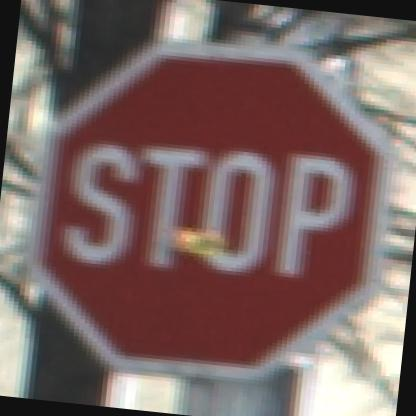stop: (18, 28, 408, 397)
